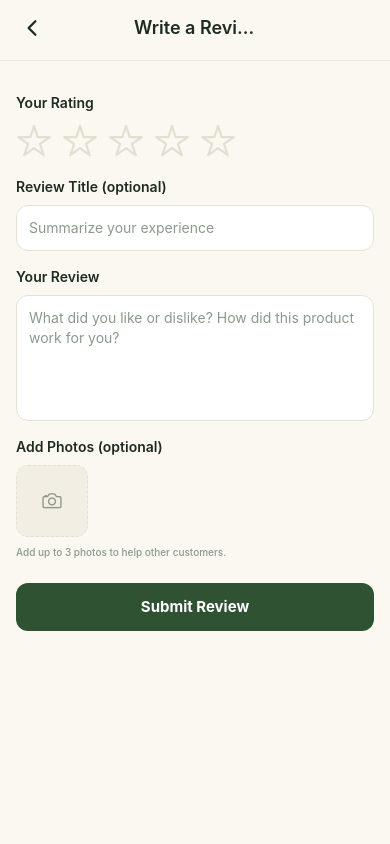
Scenario: WriteReviewScreen › attaching photos › adds a picked photo as a thumbnail with a remove button
The image size is (390, 844).
Click the button named "Add photo" at (52, 501), box x1=16 y1=465 x2=88 y2=537
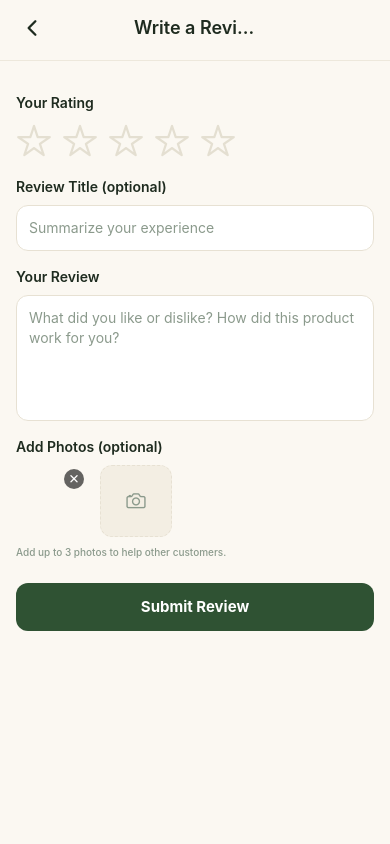
Check: the button named "Remove photo 1" is shown, box x1=64 y1=469 x2=84 y2=489
